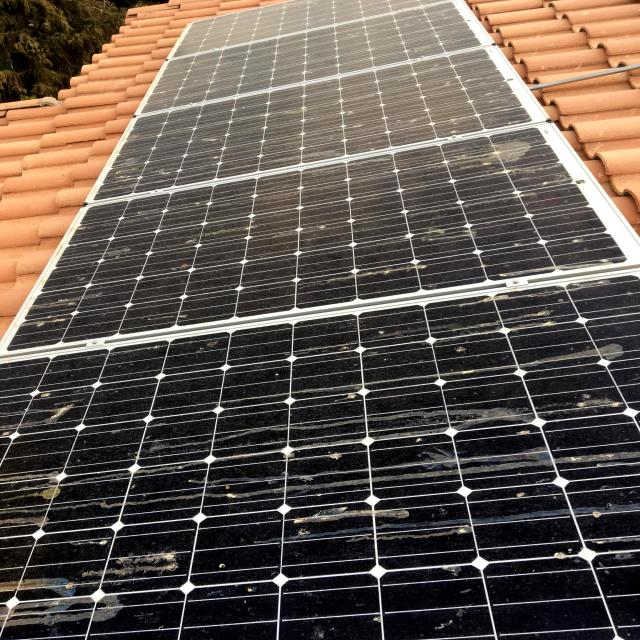bird: (430, 393, 603, 438), (275, 496, 432, 532), (434, 131, 547, 173), (15, 591, 144, 627), (528, 327, 630, 370), (3, 398, 102, 436), (104, 538, 190, 577), (1, 477, 74, 512)
